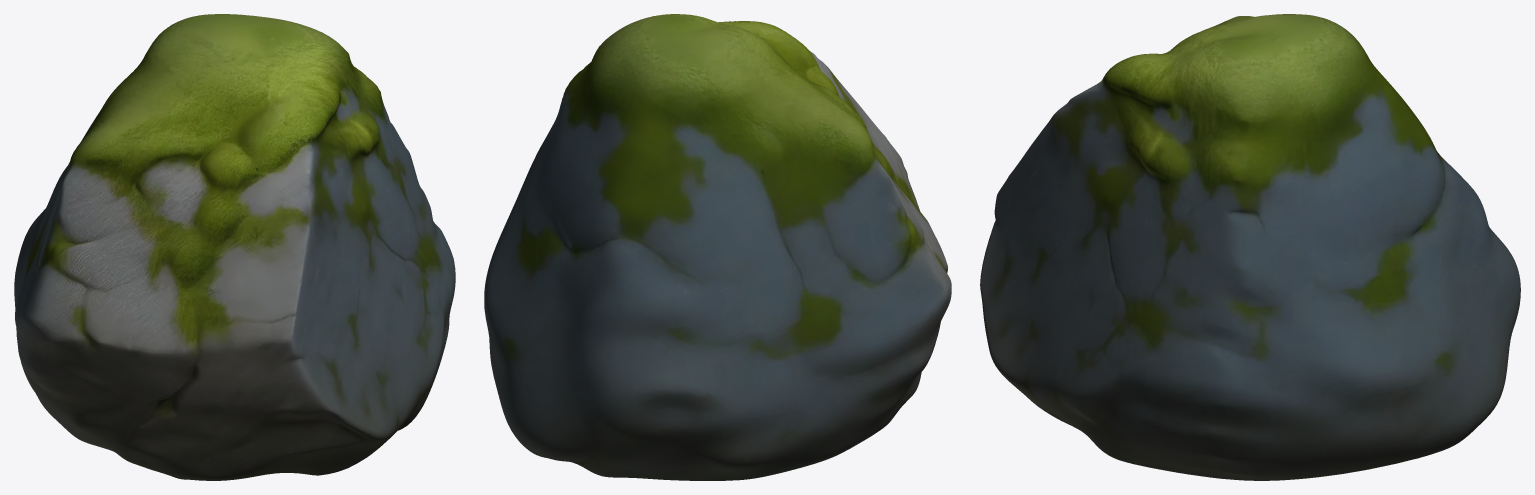
Rendered from boulder.glb.
3 renders of one model, left to right at view 1: azimuth 30°, elevation 25°; view 2: azimuth 150°, elevation 25°; view 3: azimuth 270°, elevation 25°, orthographic. The views are drawn at different scales.
Parts seen in each view (by area): view 1: Boulder; view 2: Boulder; view 3: Boulder.
Boxes of the visible parts, left/top/right/bottom form: Boulder: left=14, top=14, right=455, bottom=480; Boulder: left=484, top=14, right=951, bottom=480; Boulder: left=980, top=14, right=1520, bottom=480.
Bounding box in the file's own units: 0.9676 × 0.8124 × 1.03.
1 material, 1 textured.
